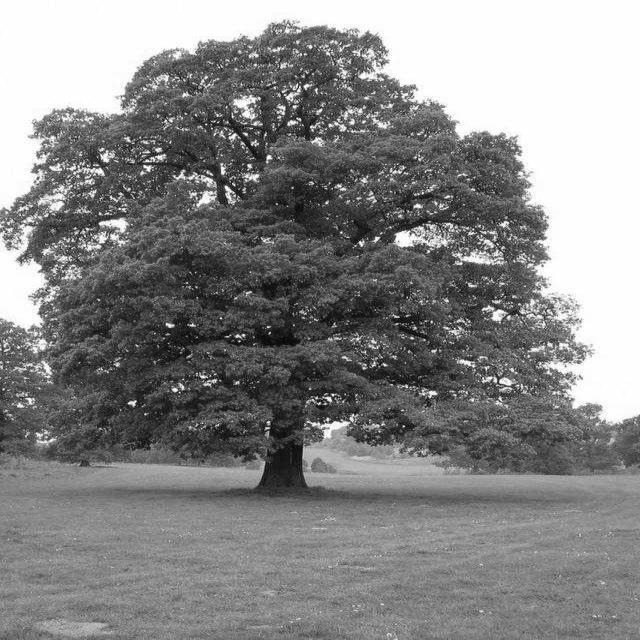Tree: (3, 22, 588, 487)
